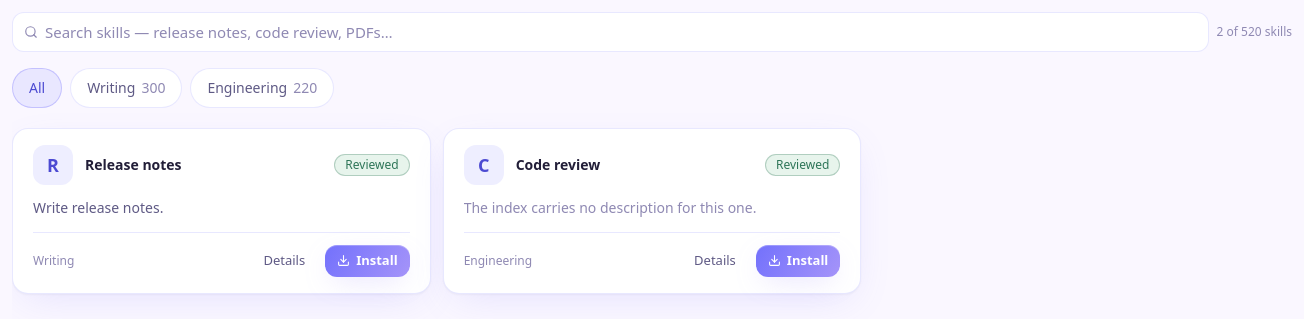
Test: SkillCatalogGallery › installs by slug — the server resolves everything else
Click the button with aria-label "Install Release notes" at (367, 261), box 325,245 -> 410,277
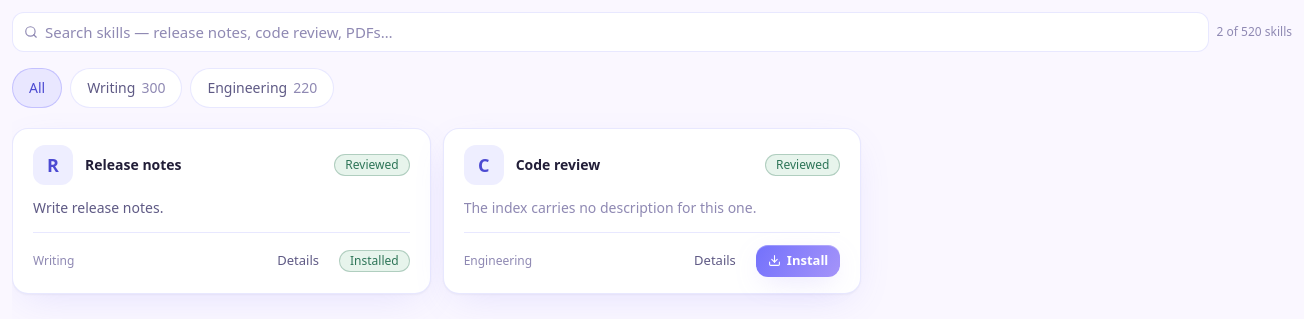
Now the text "Installed" is shown, box 339,250 -> 410,272
